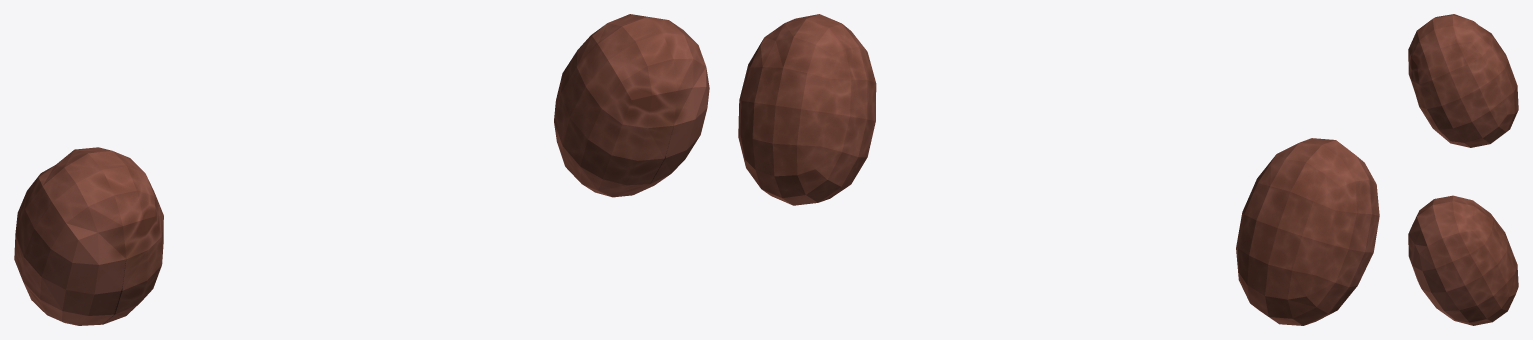
File: Ovaries_LastVersionV2.obj
The picture shows the model from 3 angles, left to right: view 1: azimuth 30°, elevation 25°; view 2: azimuth 150°, elevation 25°; view 3: azimuth 270°, elevation 25°; orthographic projection. The views are drawn at different scales.
Parts seen in each view (by area): view 1: Utero3_Ovarios; view 2: Utero3_Ovarios; view 3: Utero3_Ovarios.
Part boxes in pixels (<box>): Utero3_Ovarios: <box>14,14,709,325</box>; Utero3_Ovarios: <box>738,14,1379,325</box>; Utero3_Ovarios: <box>1408,14,1518,325</box>.
Bounding box in the file's own units: 1.88 × 0.489 × 0.3936.
Materials: 1 (1 with a texture image).
